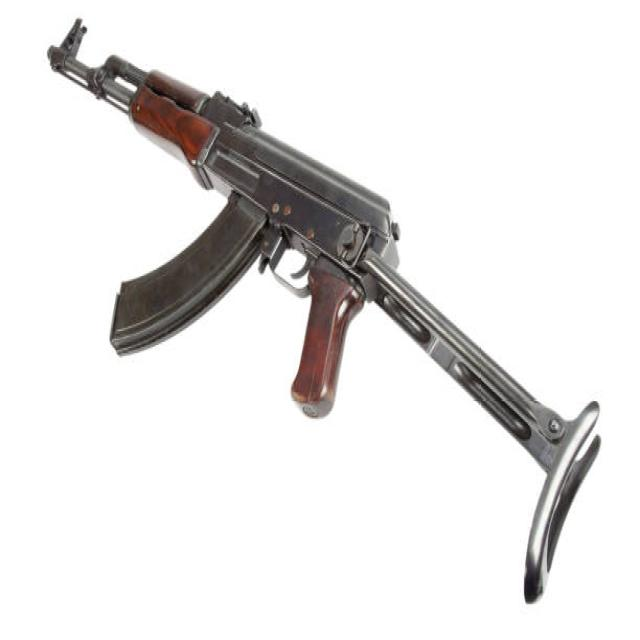rifle: (44, 12, 608, 621)
